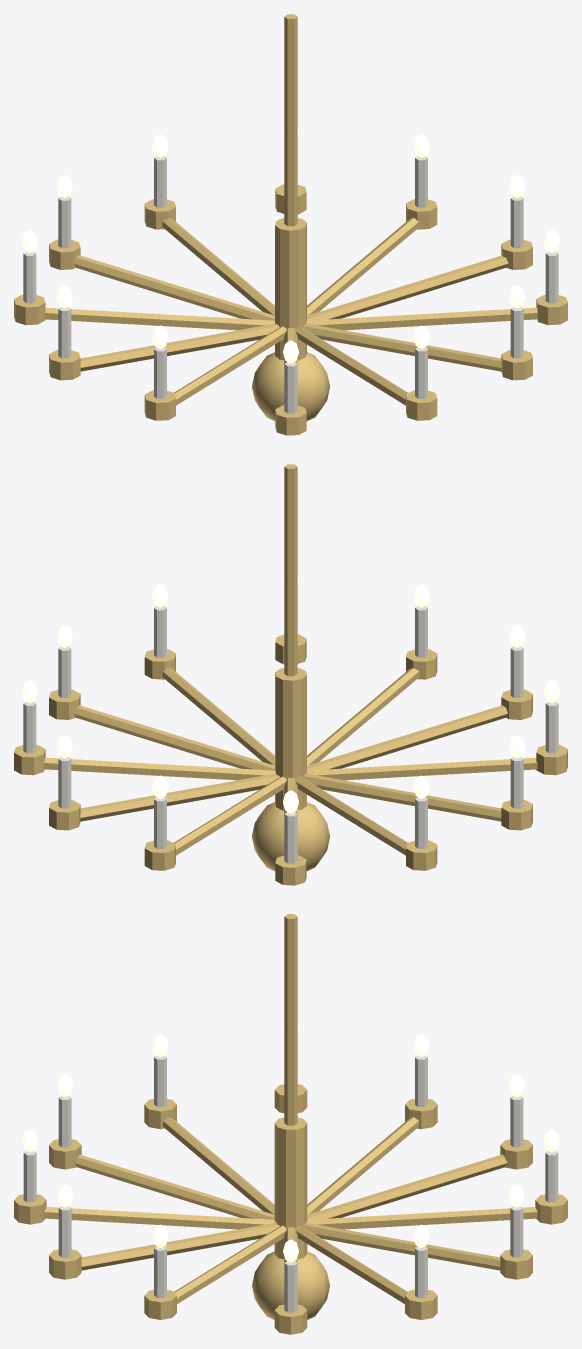
File: Chandelier.glb
3 renders of one model, top to bottom at view 1: azimuth 30°, elevation 25°; view 2: azimuth 150°, elevation 25°; view 3: azimuth 270°, elevation 25°, orthographic.
Parts seen in each view (by area): view 1: Chandelier; view 2: Chandelier; view 3: Chandelier.
Boxes of the visible parts, x1,y1,x2,y2 form: Chandelier: (14,14,567,435); Chandelier: (14,464,567,885); Chandelier: (14,914,567,1334).
Bounding box in the file's own units: 1.7 × 1.37 × 1.7.
